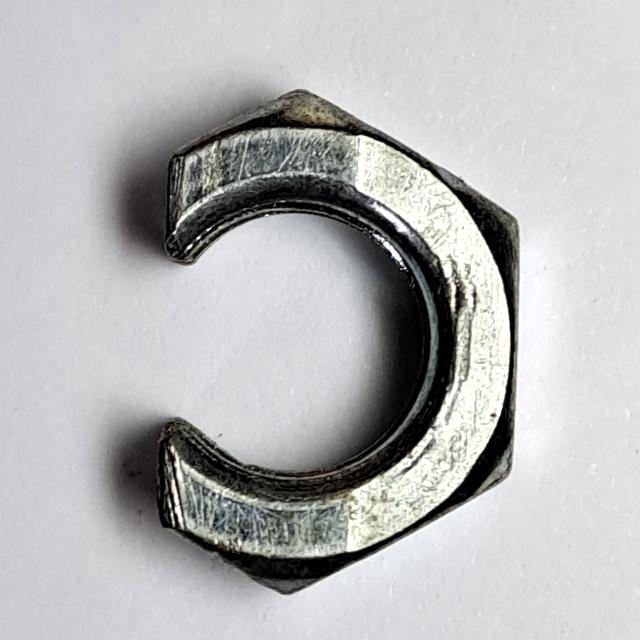Fracture: (145, 72, 531, 612)
